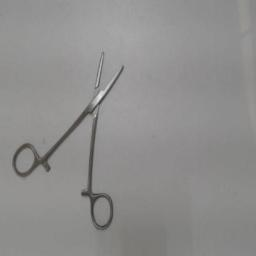Mayo Needle Holder: (10, 42, 132, 234)
